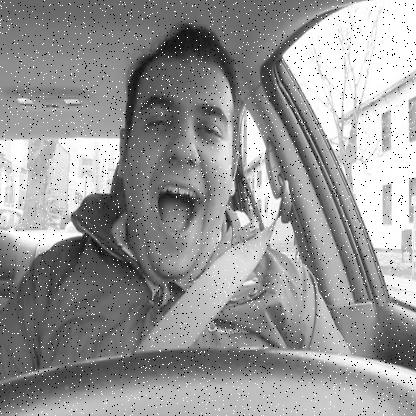seatbelt: (109, 9, 299, 351)
